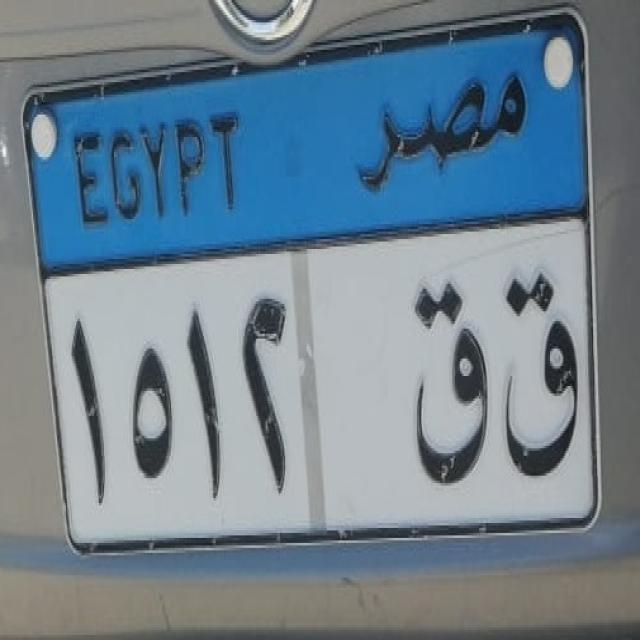1: (66, 307, 110, 516), (186, 304, 227, 497)
2: (240, 293, 290, 496)
5: (126, 338, 178, 488)
Taa: (407, 273, 492, 493), (504, 256, 584, 482)
